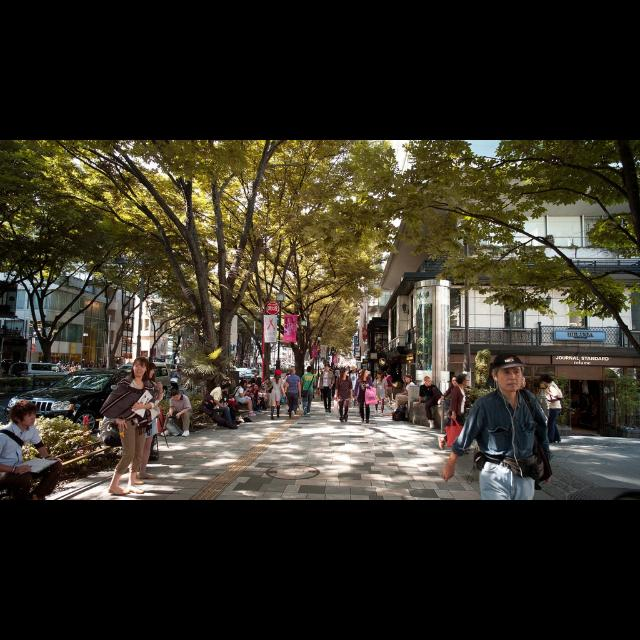head: (492, 354, 524, 394), (13, 402, 37, 426), (132, 357, 150, 377), (142, 362, 158, 381), (458, 374, 470, 388), (172, 390, 182, 402), (220, 382, 230, 392), (542, 375, 550, 387), (223, 378, 233, 386), (424, 377, 432, 387), (451, 376, 459, 386), (240, 379, 248, 388), (341, 368, 349, 376), (362, 369, 370, 377), (405, 376, 413, 384), (274, 372, 282, 378), (307, 366, 313, 374), (325, 364, 331, 372), (378, 371, 384, 379), (265, 378, 271, 384), (291, 369, 297, 375), (386, 370, 390, 376), (351, 368, 355, 374)
person: (99, 356, 160, 496), (128, 359, 166, 487), (437, 372, 475, 452), (200, 380, 240, 432), (538, 372, 566, 446), (160, 384, 193, 440), (437, 376, 468, 434), (412, 374, 444, 430), (352, 368, 378, 424), (388, 374, 420, 418), (212, 378, 240, 424), (282, 366, 304, 419), (228, 379, 258, 417), (334, 368, 354, 424), (266, 370, 288, 420), (318, 362, 336, 413), (299, 366, 317, 416), (372, 370, 388, 418), (382, 369, 396, 406), (260, 377, 276, 408), (350, 368, 360, 407)
